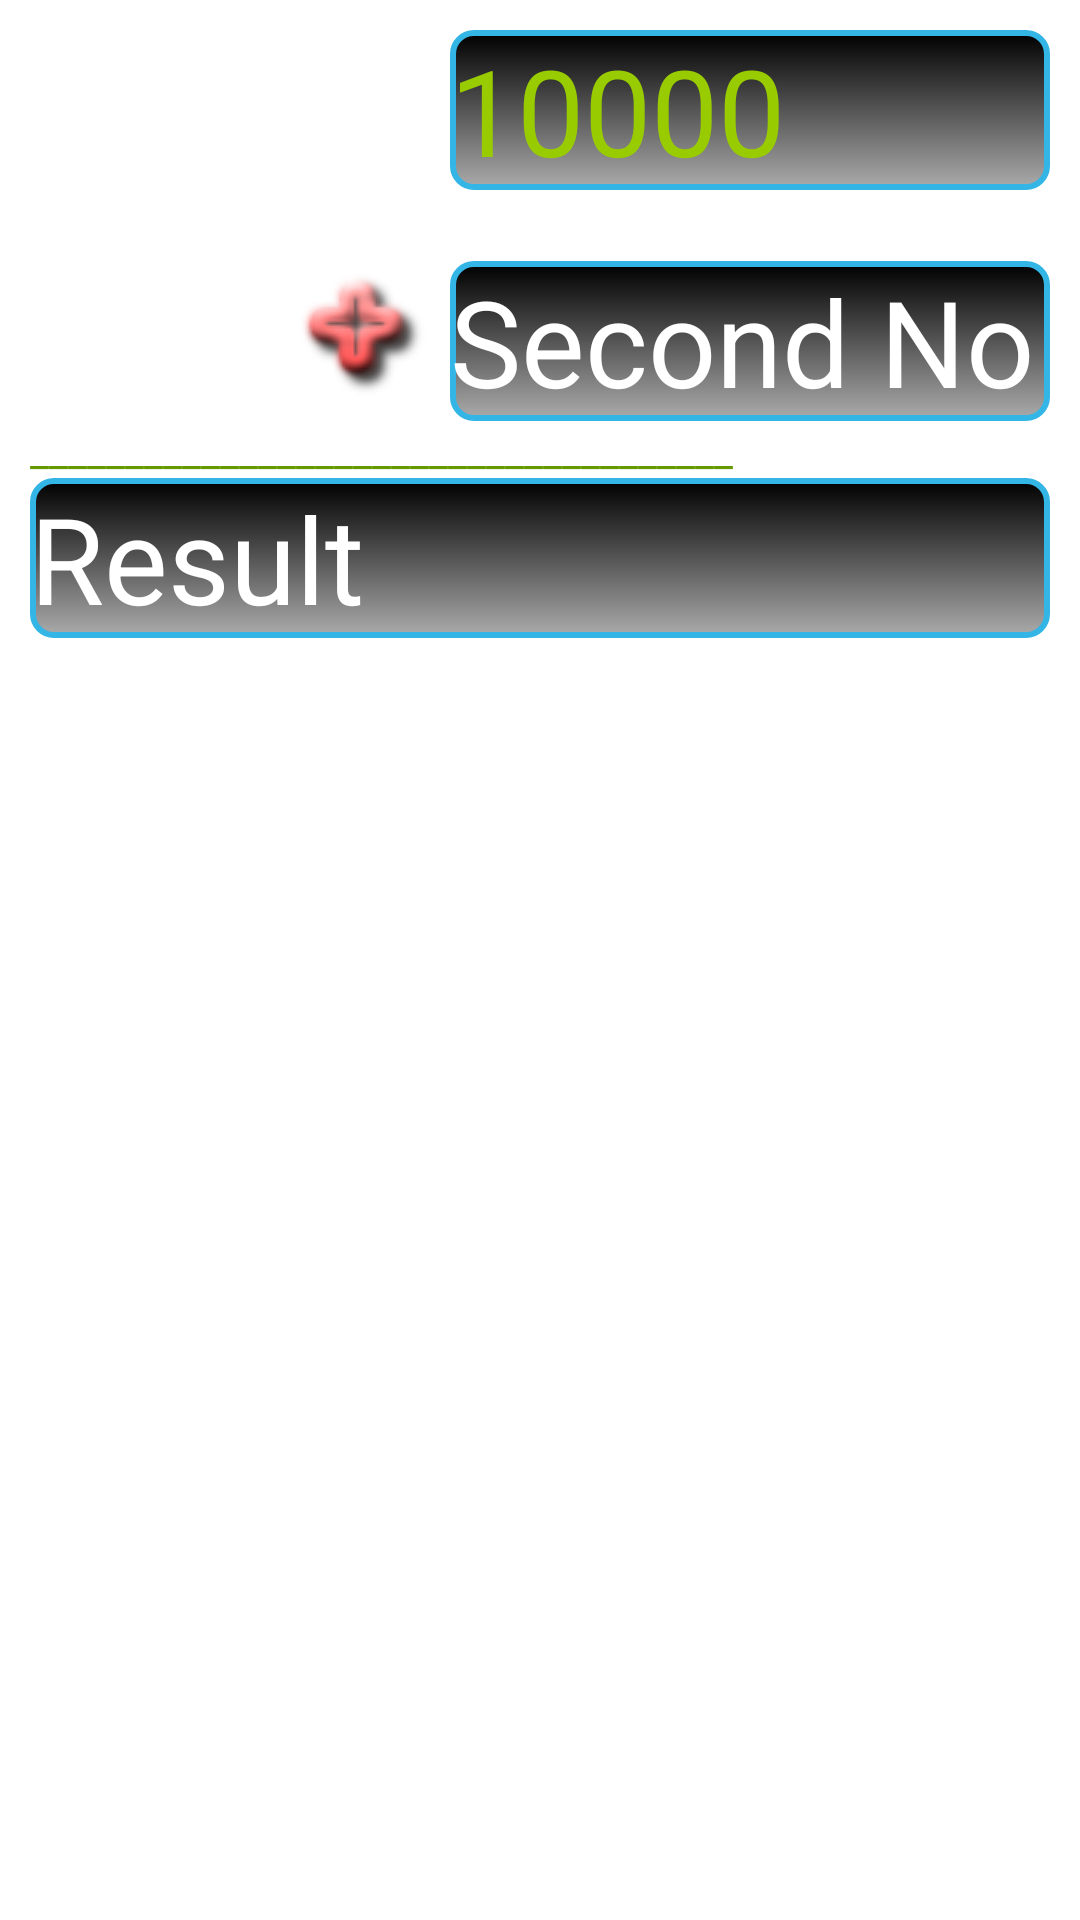

Icons on this 1080×1920 Android screen, each with the point to tap as (x=x, y=y):
plus: (x=361, y=334)
